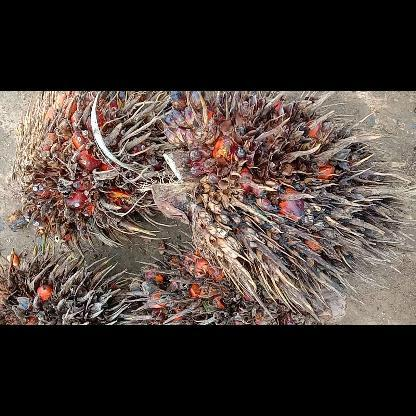Terlalu masak: (143, 90, 414, 320), (2, 91, 182, 259), (127, 238, 348, 324), (0, 240, 131, 325)
